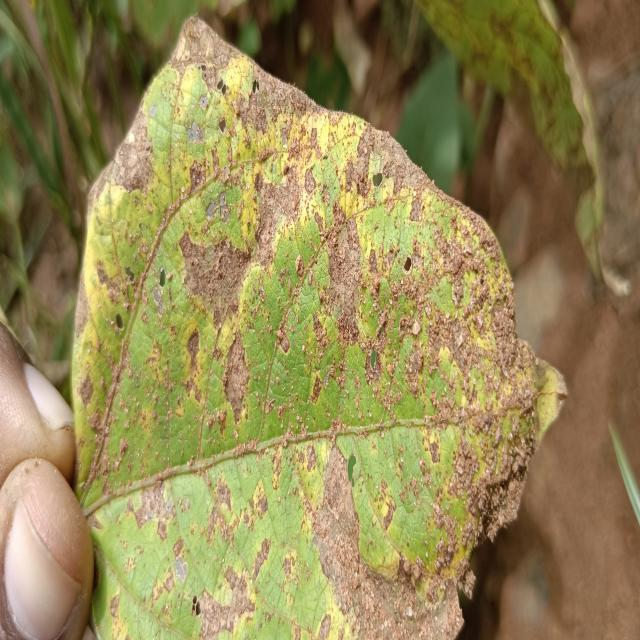Black gram_leaf spot: (67, 5, 572, 640)
